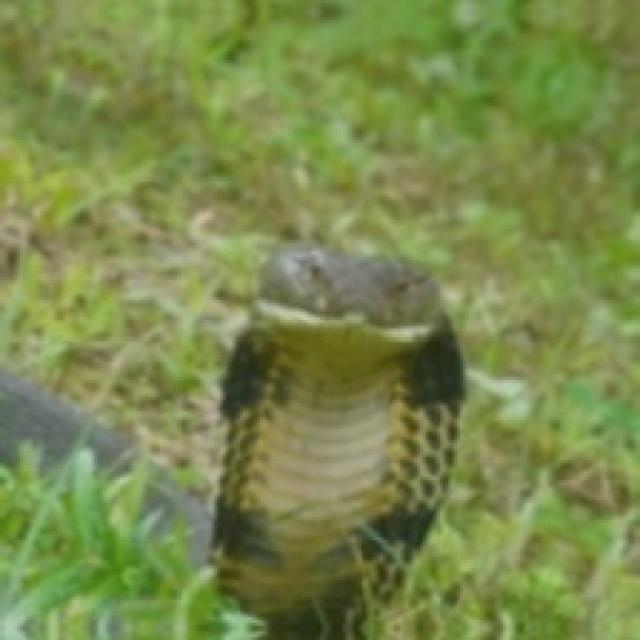king cobra: (214, 246, 463, 637)
